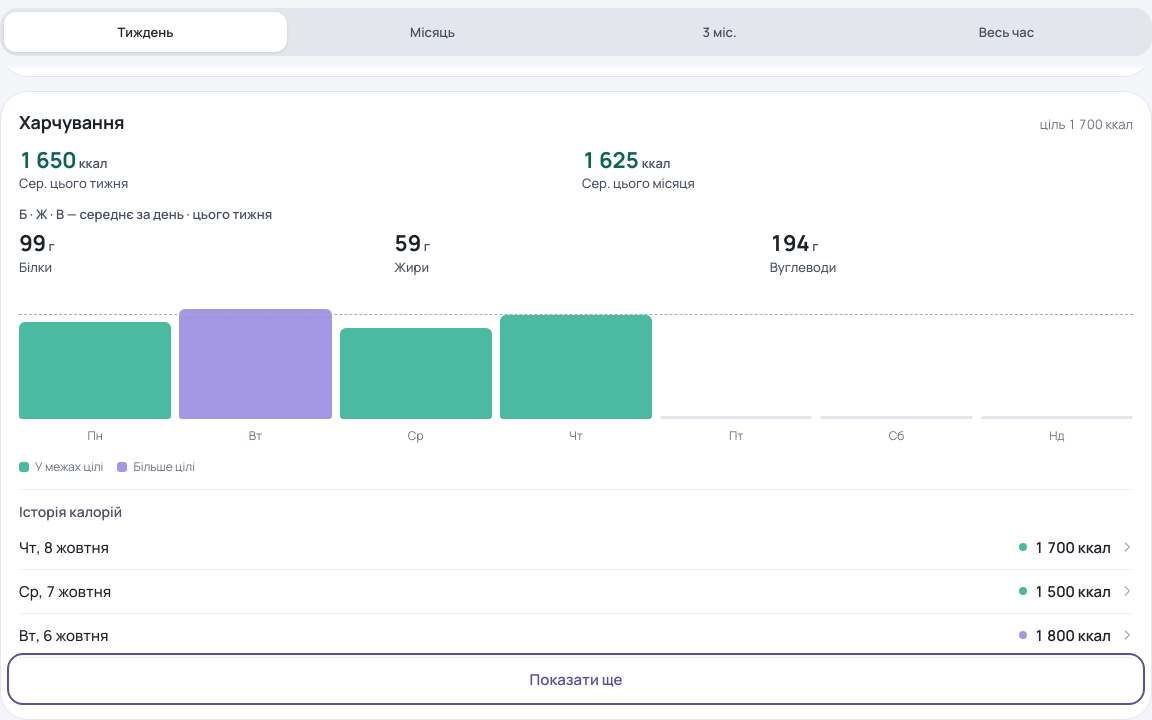
it: ProgressView — «Історія калорій» › shows 3 days with the weekday, then 7 more per «Показати ще»
This screenshot has width=1152, height=720.
(page scrolled)
Expected: the number of buttons named "Відкрити в календарі" is 3, [11,525,1141,569]; [11,569,1141,613]; [11,613,1141,657]
Click the button "Показати ще".
click(576, 679)  # box [11,657,1141,701]
(page scrolled)
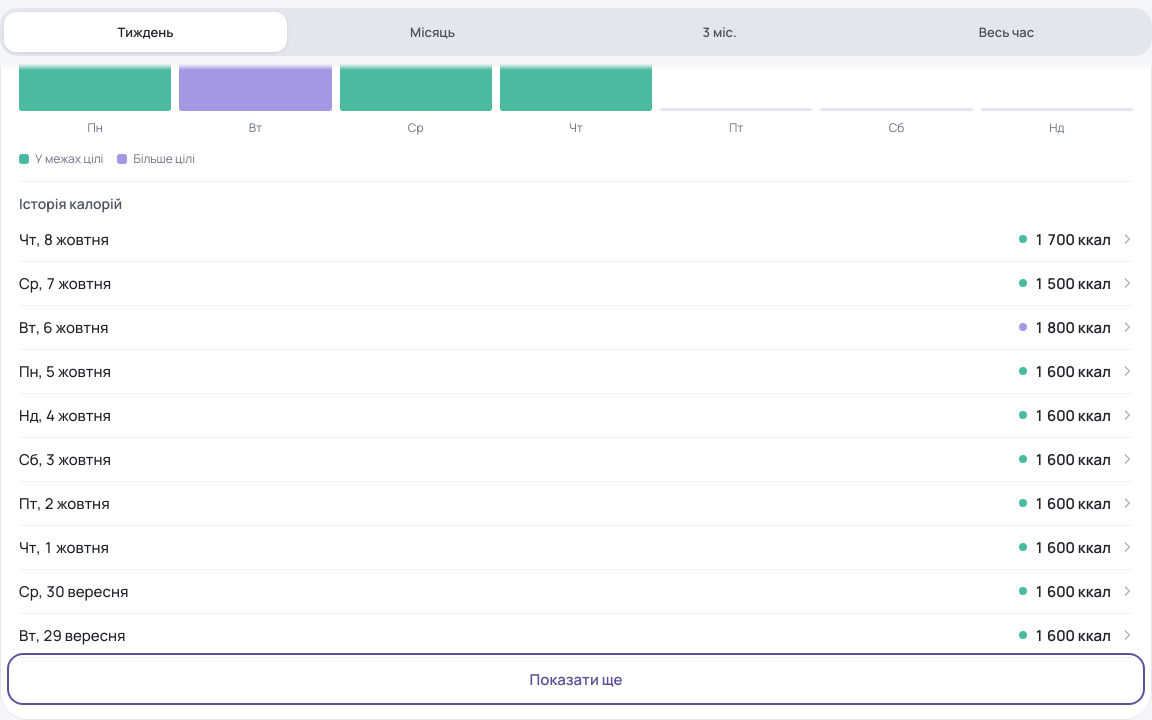
Now the number of buttons named "Відкрити в календарі" is 10
Click the button "Показати ще".
click(576, 679)  # box [11,657,1141,701]
(page scrolled)
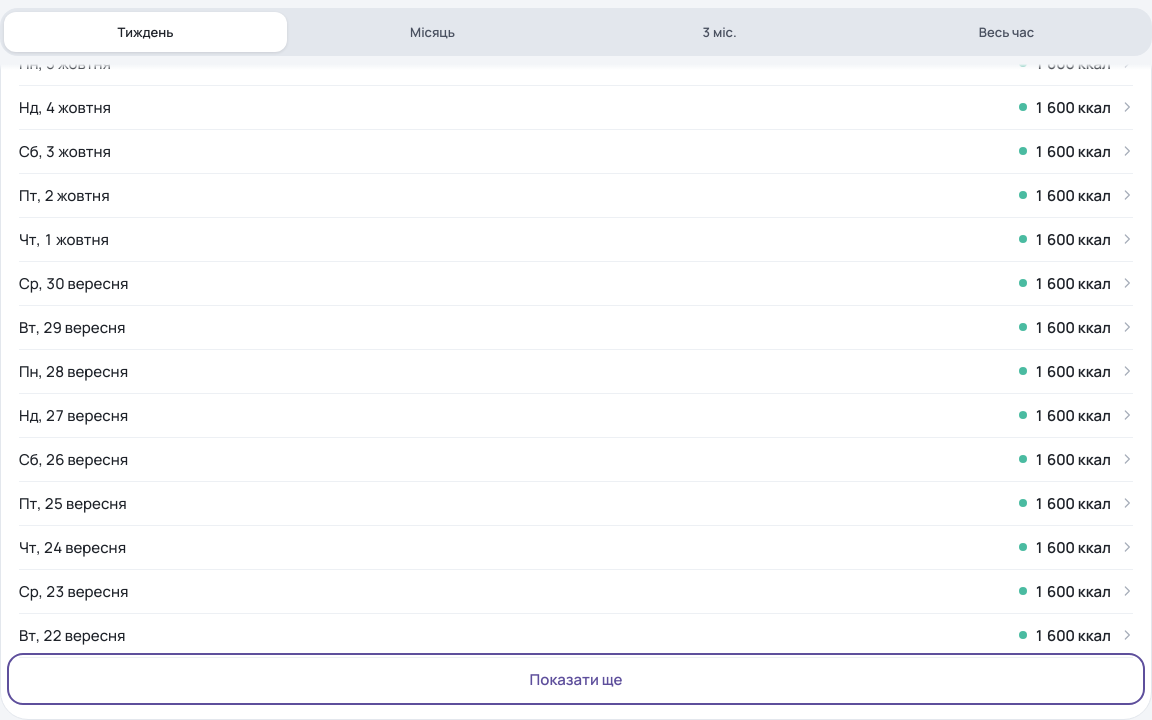
Now the number of buttons "Відкрити в календарі" is 17
